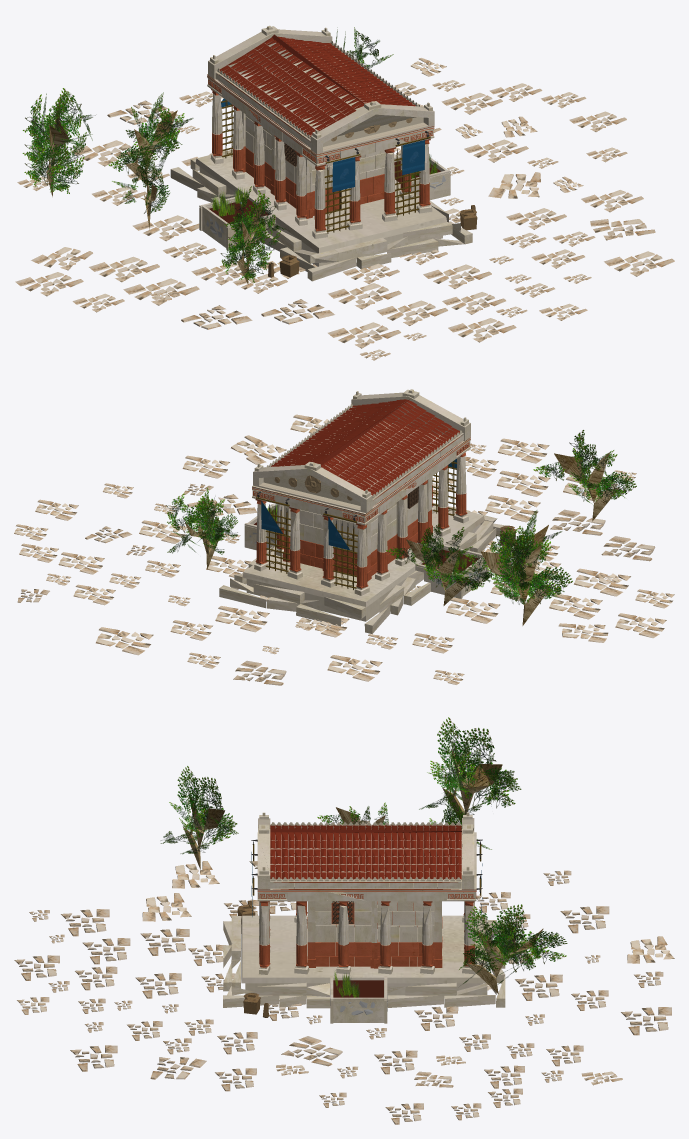
The model's file is lmk_ruins.glb.
3 renders of one model, top to bottom at view 1: azimuth 30°, elevation 25°; view 2: azimuth 150°, elevation 25°; view 3: azimuth 270°, elevation 25°, orthographic. The views are drawn at different scales.
Visible parts, largest first — view 1: Object_276, Object_4, Object_526, Object_443, Object_361, Object_524, Object_152, Object_182, Object_1088, Object_628, Object_1094; view 2: Object_276, Object_4, Object_526, Object_443, Object_361, Object_524, Object_152, Object_182; view 3: Object_276, Object_4, Object_526, Object_443, Object_361, Object_524, Object_1094, Object_1088, Object_445.
Boxes of the visible parts, bbox=[...] form: Object_276: bbox=[170, 25, 472, 281]; Object_4: bbox=[15, 58, 674, 360]; Object_526: bbox=[22, 27, 393, 282]; Object_443: bbox=[219, 36, 415, 136]; Object_361: bbox=[207, 74, 434, 231]; Object_524: bbox=[46, 60, 359, 284]; Object_152: bbox=[221, 100, 430, 233]; Object_182: bbox=[221, 98, 425, 192]; Object_1088: bbox=[268, 205, 477, 277]; Object_628: bbox=[212, 154, 438, 216]; Object_1094: bbox=[209, 161, 440, 224]; Object_276: bbox=[219, 389, 505, 633]; Object_4: bbox=[14, 414, 674, 685]; Object_526: bbox=[166, 430, 636, 604]; Object_443: bbox=[271, 399, 459, 495]; Object_361: bbox=[252, 436, 470, 588]; Object_524: bbox=[185, 452, 619, 625]; Object_152: bbox=[256, 460, 456, 589]; Object_182: bbox=[261, 458, 456, 550]; Object_276: bbox=[223, 812, 505, 1023]; Object_4: bbox=[14, 820, 674, 1124]; Object_526: bbox=[160, 717, 567, 984]; Object_443: bbox=[270, 825, 461, 879]; Object_361: bbox=[257, 882, 476, 968]; Object_524: bbox=[183, 749, 543, 993]; Object_1094: bbox=[333, 980, 383, 997]; Object_1088: bbox=[237, 900, 268, 1017]; Object_445: bbox=[270, 829, 461, 833].
Size of the model in its own units: 317 by 70.51 by 291.
Materials: 19 (12 with a texture image).
